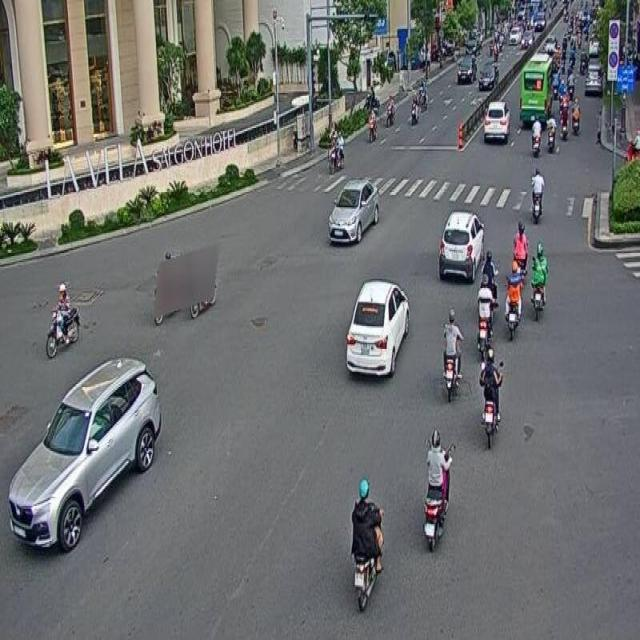car: (9, 358, 160, 552), (346, 279, 409, 379), (438, 210, 485, 285), (328, 178, 379, 242)
motorcycle: (350, 479, 384, 614), (423, 430, 455, 550), (479, 349, 503, 449), (46, 284, 79, 356), (152, 250, 182, 326), (442, 306, 463, 404), (190, 247, 217, 318), (504, 260, 523, 342), (478, 271, 494, 361), (532, 240, 547, 322), (530, 166, 545, 226)
